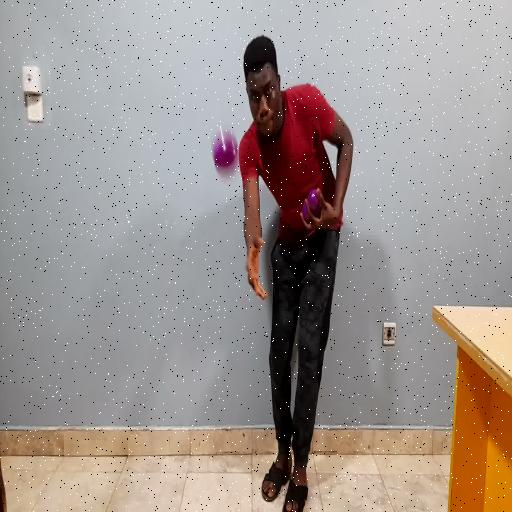plastic-ball: (211, 125, 239, 180)
